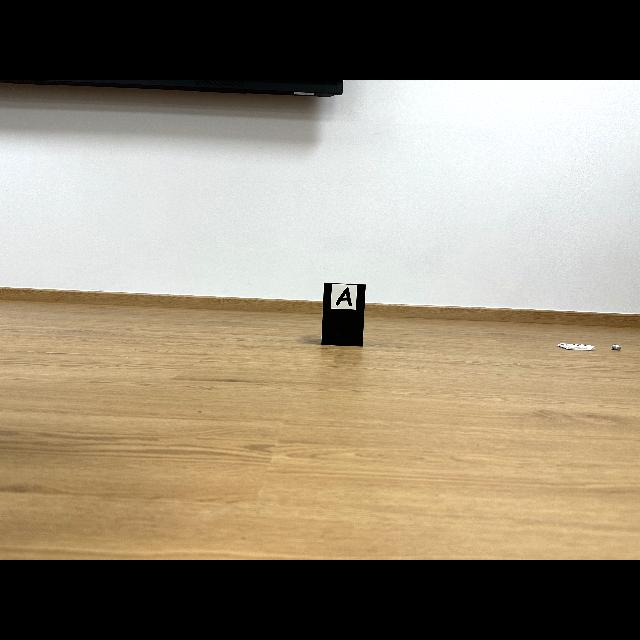A: (336, 288, 352, 306)
